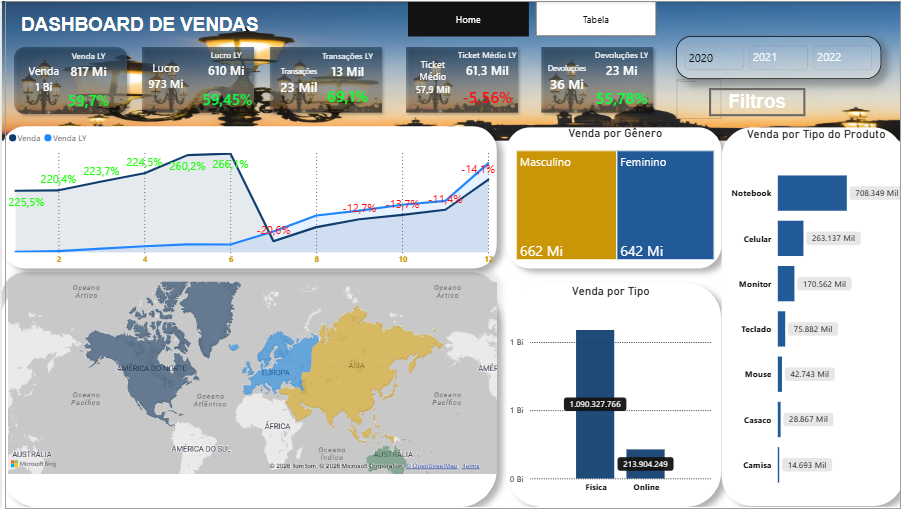

The dashboard page shown, as its layout file describes it:
{"tool":"powerbi","page":{"name":"Home","canvas":[1280,720],"ordinal":0},"visuals":[{"type":"advancedSlicerVisual","fields":{"Values":["d_calendario.Ano"]},"box":[955.7,50,291.4,61.4],"z":0},{"type":"cardVisual","fields":{"Data":["Medidas.Venda"]},"box":[2.9,56.4,113.3,106.7],"z":0,"group":"g1"},{"type":"lineChart","fields":{"Category":["d_calendario.Mês"],"Y":["Medidas.Venda","Medidas.Venda LY"]},"box":[4,174.1,700,210],"z":0,"group":"g2"},{"type":"group","id":"g1","title":"KPIs","box":[2.9,51.2,953.6,142.9],"z":1000},{"type":"filledMap","fields":{"Category":["d_lojas.Continente"]},"box":[2.6,392.6,704.3,321.4],"z":1000,"group":"g2"},{"type":"cardVisual","fields":{"Data":["Medidas.Lucro"]},"box":[176.2,53.1,113.3,106.7],"z":2000,"group":"g1"},{"type":"group","id":"g2","title":"Gráficos","box":[2.6,174.1,1277.4,540],"z":2000},{"type":"clusteredColumnChart","fields":{"Category":["d_lojas.Tipo"],"Y":["Medidas.Venda"]},"box":[714.6,401.2,297.1,305.7],"z":2000,"group":"g2"},{"type":"pageNavigator","box":[575.7,0,352.9,50],"z":3000},{"type":"cardVisual","fields":{"Data":["Medidas.Lucro LY"]},"box":[251.7,51.2,131.4,142.9],"z":3000,"group":"g1"},{"type":"treemap","title":"Venda por Gênero","fields":{"Group":["d_clientes.Genero"],"Values":["Medidas.Venda"]},"box":[724.6,176.9,290,194.3],"z":3000,"group":"g2"},{"type":"actionButton","box":[1001.7,123.3,136.7,40],"z":3500},{"type":"group","id":"g3","title":"Grupo 1","box":[4.3,0,1270,720],"z":4000},{"type":"cardVisual","fields":{"Data":["Medidas.Transações"]},"box":[364.5,59.5,113.3,106.7],"z":4000,"group":"g1"},{"type":"clusteredBarChart","fields":{"Category":["d_produtos.Tipo do Produto"],"Y":["Medidas.Venda"]},"box":[1027.2,178.4,252.9,535.7],"z":4000,"group":"g2"},{"type":"cardVisual","fields":{"Data":["Medidas.Venda LY"]},"box":[57.1,54.3,132.9,128.6],"z":5000},{"type":"cardVisual","fields":{"Data":["Medidas.Transações LY"]},"box":[412.9,56.5,155.7,122.9],"z":5000,"group":"g1"},{"type":"cardVisual","fields":{"Data":["Medidas.Ticket Médio LY"]},"box":[611.5,54.7,154.3,125.7],"z":6000,"group":"g1"},{"type":"cardVisual","fields":{"Data":["Medidas.Ticket Médio"]},"box":[554.6,54.7,113.3,106.7],"z":7000,"group":"g1"},{"type":"cardVisual","fields":{"Data":["Medidas.Devoluções LY"]},"box":[801.5,56.1,155,123.3],"z":8000,"group":"g1"},{"type":"cardVisual","fields":{"Data":["Medidas.Devoluções"]},"box":[744.5,55.2,113.3,106.7],"z":9000,"group":"g1"}]}

Visuals, with their boxes in screenshot pixels (x1, y1, x2, y2), scaled from the page's 1280x720 canvas onto the 901x509 screenshot:
advancedSlicerVisual - d_calendario.Ano: select_region(673, 35, 878, 79)
cardVisual - Medidas.Venda: select_region(2, 40, 82, 115)
lineChart - d_calendario.Mês x Medidas.Venda: select_region(3, 123, 496, 272)
"KPIs" group: select_region(2, 36, 673, 137)
filledMap - d_lojas.Continente: select_region(2, 278, 498, 505)
cardVisual - Medidas.Lucro: select_region(124, 38, 204, 113)
"Gráficos" group: select_region(2, 123, 900, 505)
clusteredColumnChart - d_lojas.Tipo x Medidas.Venda: select_region(503, 284, 712, 500)
pageNavigator: select_region(405, 0, 654, 35)
cardVisual - Medidas.Lucro LY: select_region(177, 36, 270, 137)
"Venda por Gênero" treemap: select_region(510, 125, 714, 262)
actionButton: select_region(705, 87, 801, 115)
"Grupo 1" group: select_region(3, 0, 897, 508)
cardVisual - Medidas.Transações: select_region(257, 42, 336, 117)
clusteredBarChart - d_produtos.Tipo do Produto x Medidas.Venda: select_region(723, 126, 900, 505)
cardVisual - Medidas.Venda LY: select_region(40, 38, 134, 129)
cardVisual - Medidas.Transações LY: select_region(291, 40, 400, 127)
cardVisual - Medidas.Ticket Médio LY: select_region(430, 39, 539, 128)
cardVisual - Medidas.Ticket Médio: select_region(390, 39, 470, 114)
cardVisual - Medidas.Devoluções LY: select_region(564, 40, 673, 127)
cardVisual - Medidas.Devoluções: select_region(524, 39, 604, 114)
